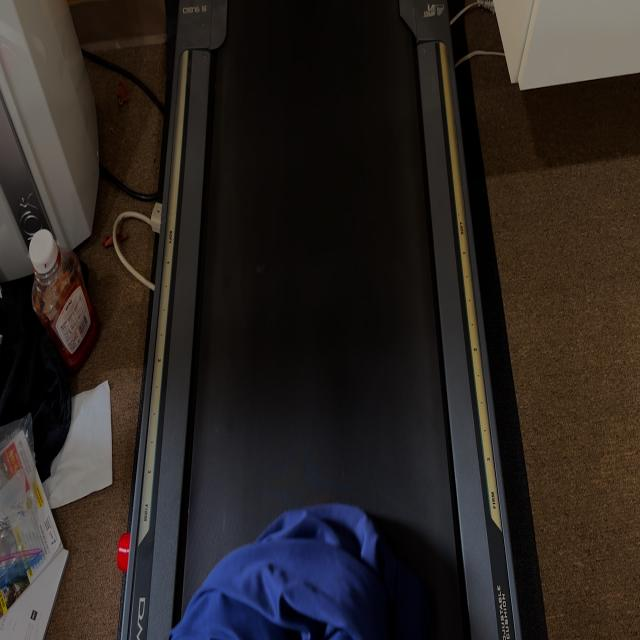Trash: (173, 512, 416, 640)
